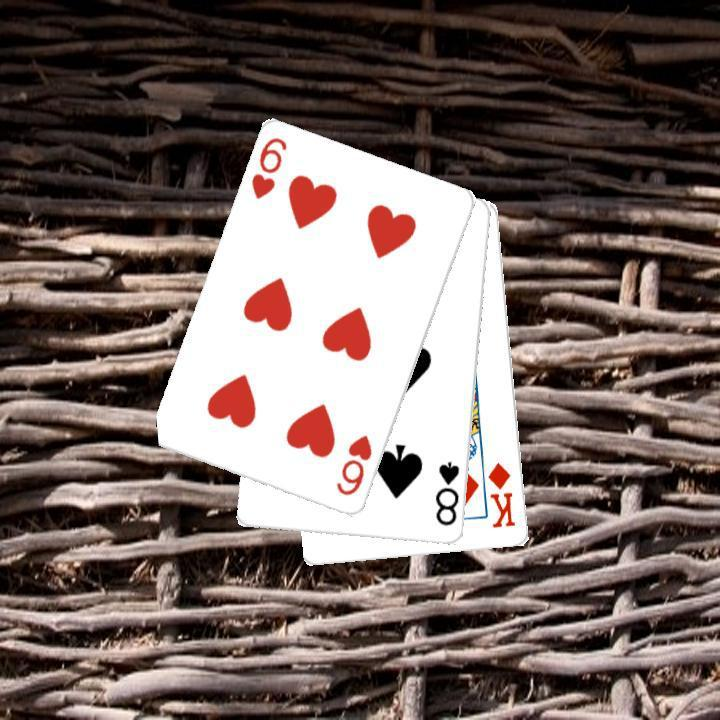6: (247, 133, 290, 202), (332, 431, 375, 498)
8: (431, 457, 462, 528)
K: (484, 458, 518, 531)
